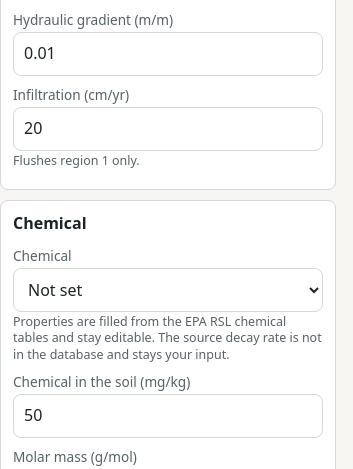
Test: SaturatedPage chemical from the project list › lists the project chemicals by name, saves the pick and fills the properties
(page scrolled)
Select "Benzene" in the dropdown labelled "Chemical" at (168, 290), box [13,268,323,312]
(page scrolled)
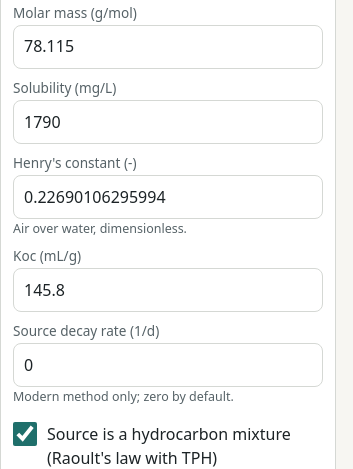
Result: the field labelled "Koc (mL/g)" holds "145.8" at [13,268,323,312]
